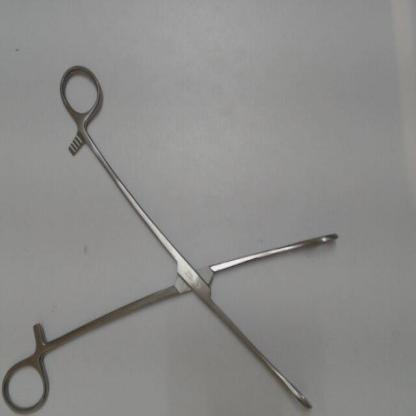Sponge Forceps: (2, 59, 350, 414)
